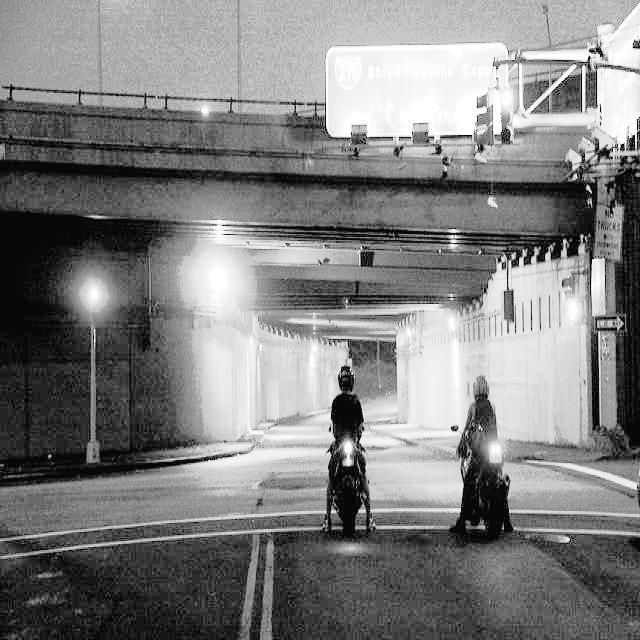Motorcycle: (460, 432, 514, 539), (324, 425, 374, 537)
Person: (454, 376, 501, 472), (328, 365, 365, 450)
